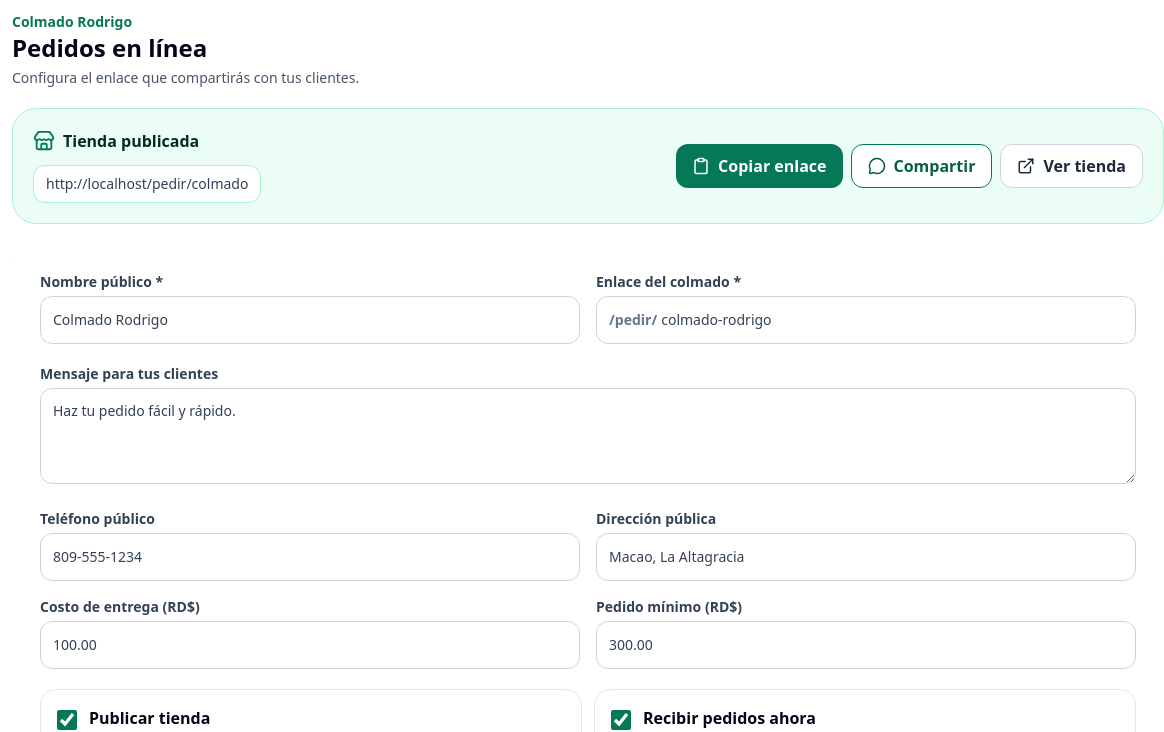
Test: StorefrontSettingsPanel › copies the public ordering link
The image size is (1164, 732).
Expected: the text "Tienda publicada" is shown, [63,129,199,153]
Click the button "Copiar enlace" at (759,166), box [676,144,842,188]
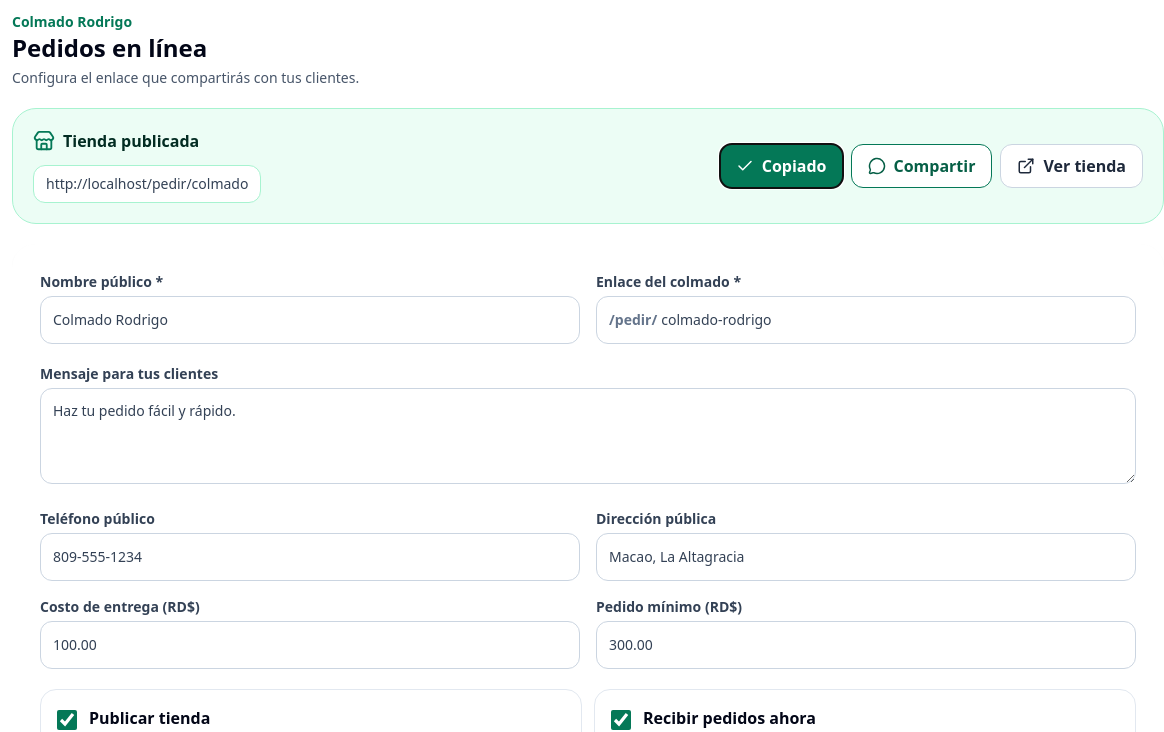
Result: the button "Copiado" is shown at [720,144,842,188]
